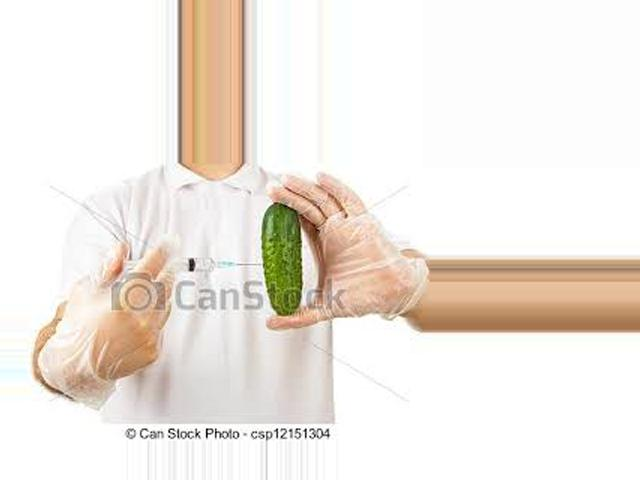cucumber: (263, 202, 304, 318)
